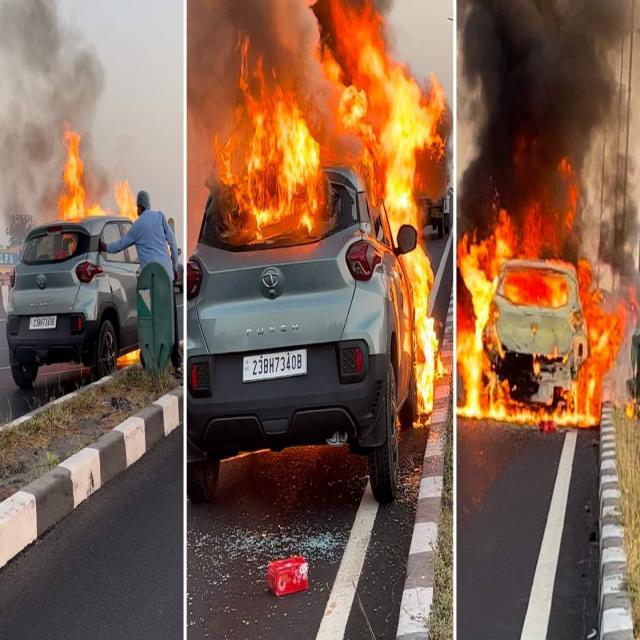fire: (346, 31, 432, 210), (228, 109, 320, 238), (459, 235, 506, 421), (571, 270, 625, 430), (406, 246, 448, 438), (61, 128, 90, 224), (113, 176, 137, 222)
smoke: (4, 7, 53, 216)
